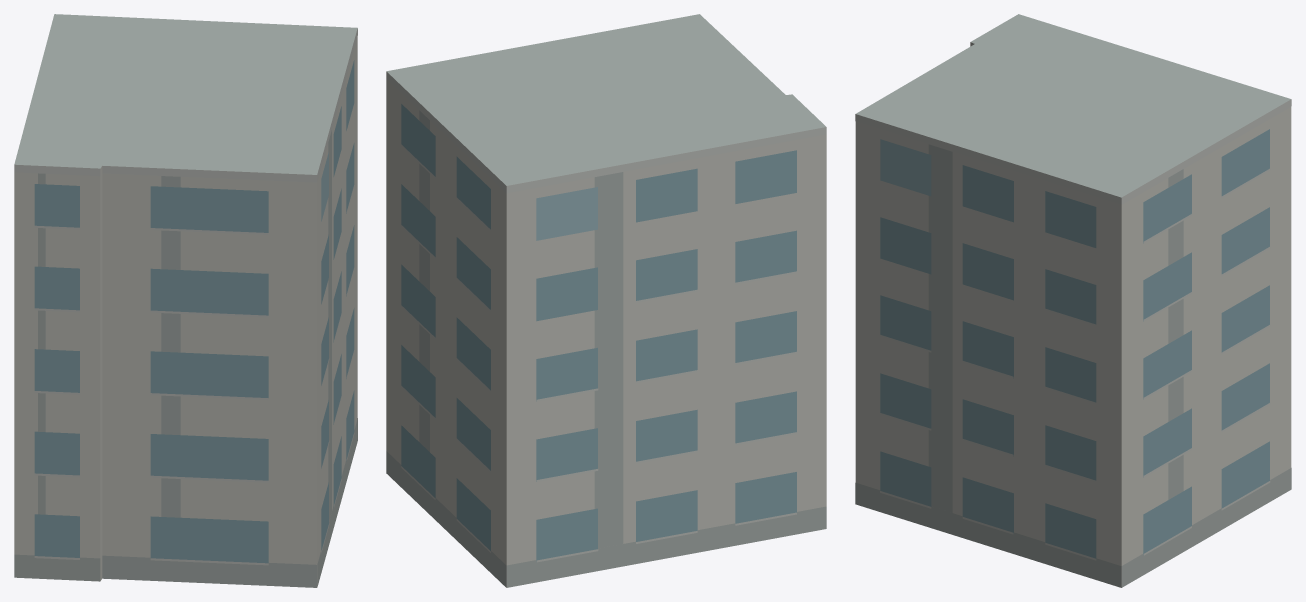
File: survey-upis-33028836.glb
3 renders of one model, left to right at view 1: azimuth 30°, elevation 25°; view 2: azimuth 150°, elevation 25°; view 3: azimuth 270°, elevation 25°, orthographic. The views are drawn at different scales.
Parts seen in each view (by area): view 1: survey-upis-33028836.tmp; view 2: survey-upis-33028836.tmp; view 3: survey-upis-33028836.tmp.
Part boxes in pixels (<box>): survey-upis-33028836.tmp: <box>14,14,357,587</box>; survey-upis-33028836.tmp: <box>386,14,826,587</box>; survey-upis-33028836.tmp: <box>855,14,1291,587</box>.
Bounding box in the file's own units: 13.22 × 13.1 × 13.27.
